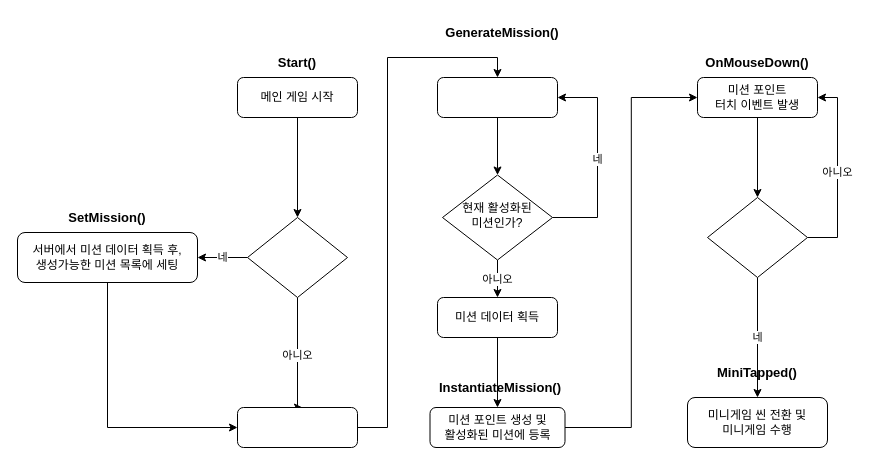
The diagram is 870 pixels wide and 465 high, and some of its shapes have lost their labels. Each missing label, with the centre of its shape:
"미션 생성 시작" belongs at (497,97).
"지점에 충분히 가까운가?" belongs at (757,237).
"초기화 완료" belongs at (297,427).
"최초 접속인가?" belongs at (297,257).
